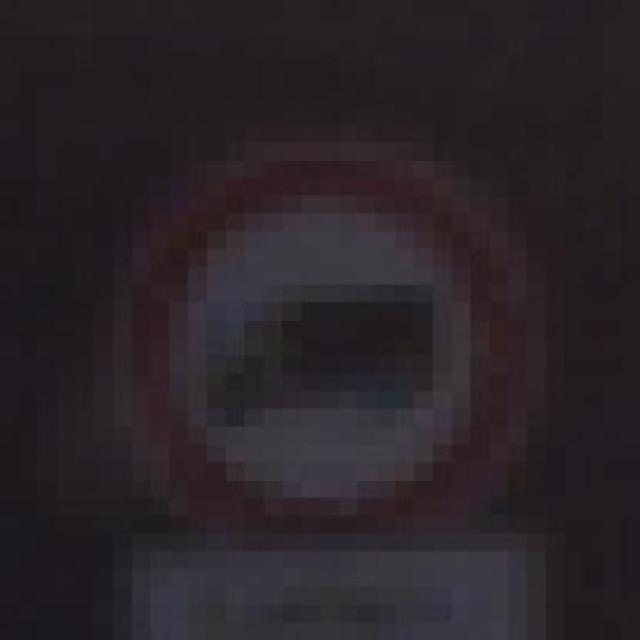Truck traffic is prohibited: (75, 106, 602, 569)
